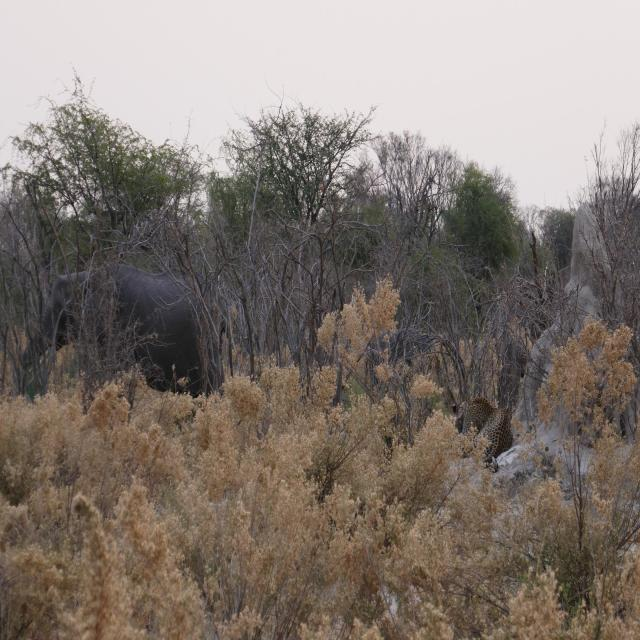Leopard: (446, 397, 518, 472)
